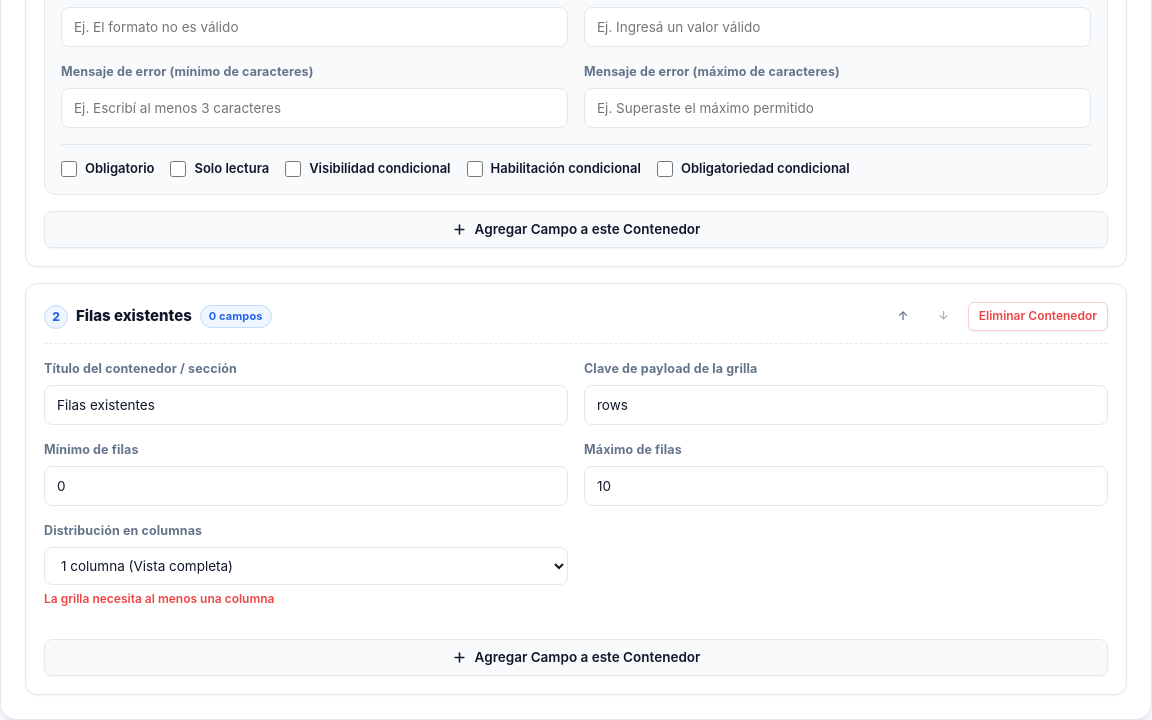
DefinitionEditor › un mínimo de filas mayor al máximo se reporta en el acto en una grilla existente
The width and height of the screenshot is (1152, 720).
(page scrolled)
Replace the text in the number field below "Mínimo de filas" with "20" at (306, 486), box [44,466,568,506]
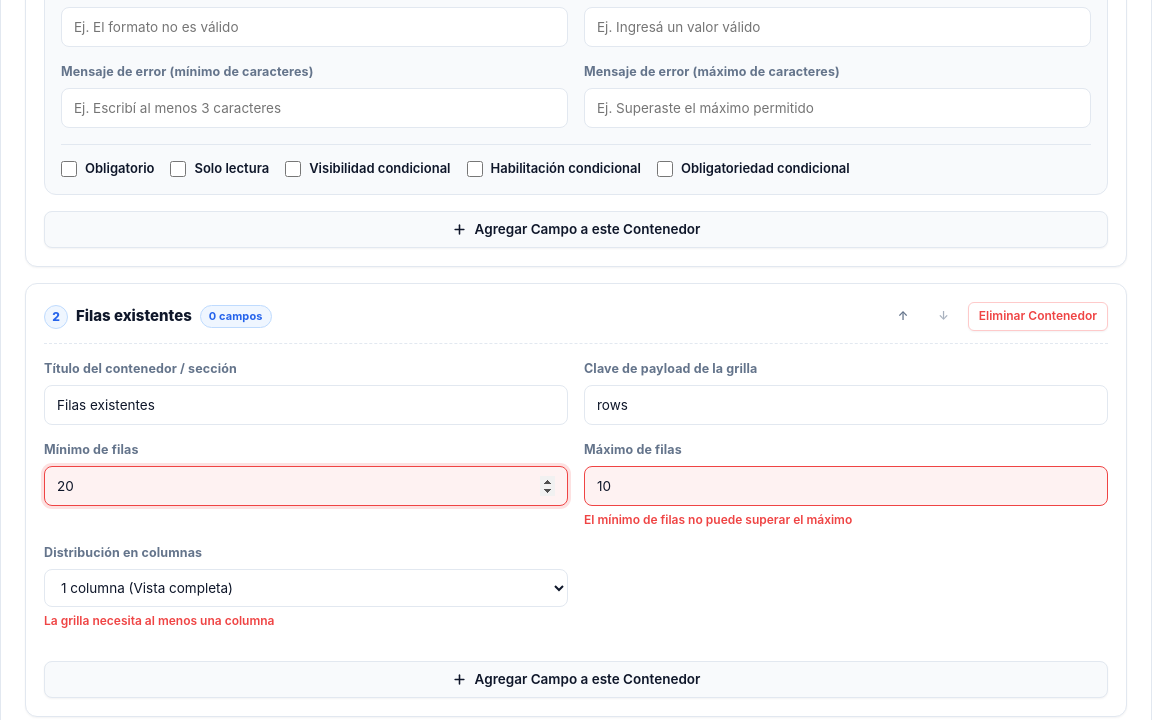
Expected: the text "El mínimo de filas no puede superar el máximo" is shown, [584,512,852,527]
